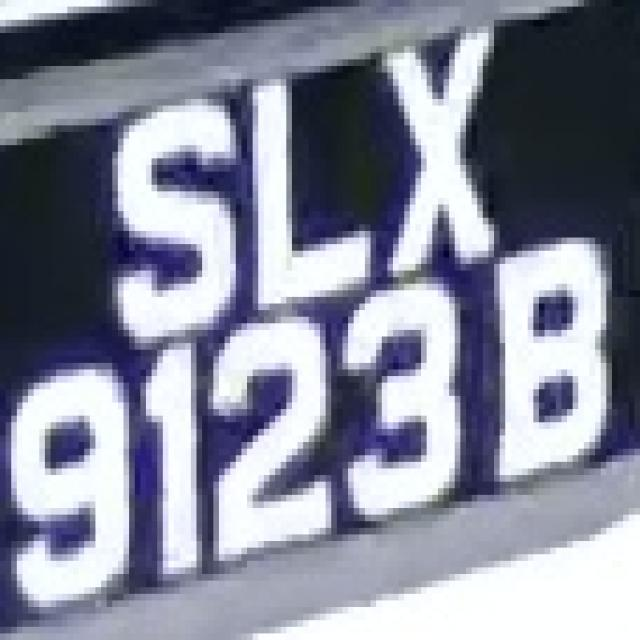1: (129, 343, 219, 594)
2: (208, 304, 331, 568)
3: (348, 257, 466, 548)
9: (22, 330, 135, 620)
B: (477, 218, 612, 488)
L: (242, 79, 371, 304)
S: (84, 86, 247, 323)
X: (371, 20, 505, 284)
